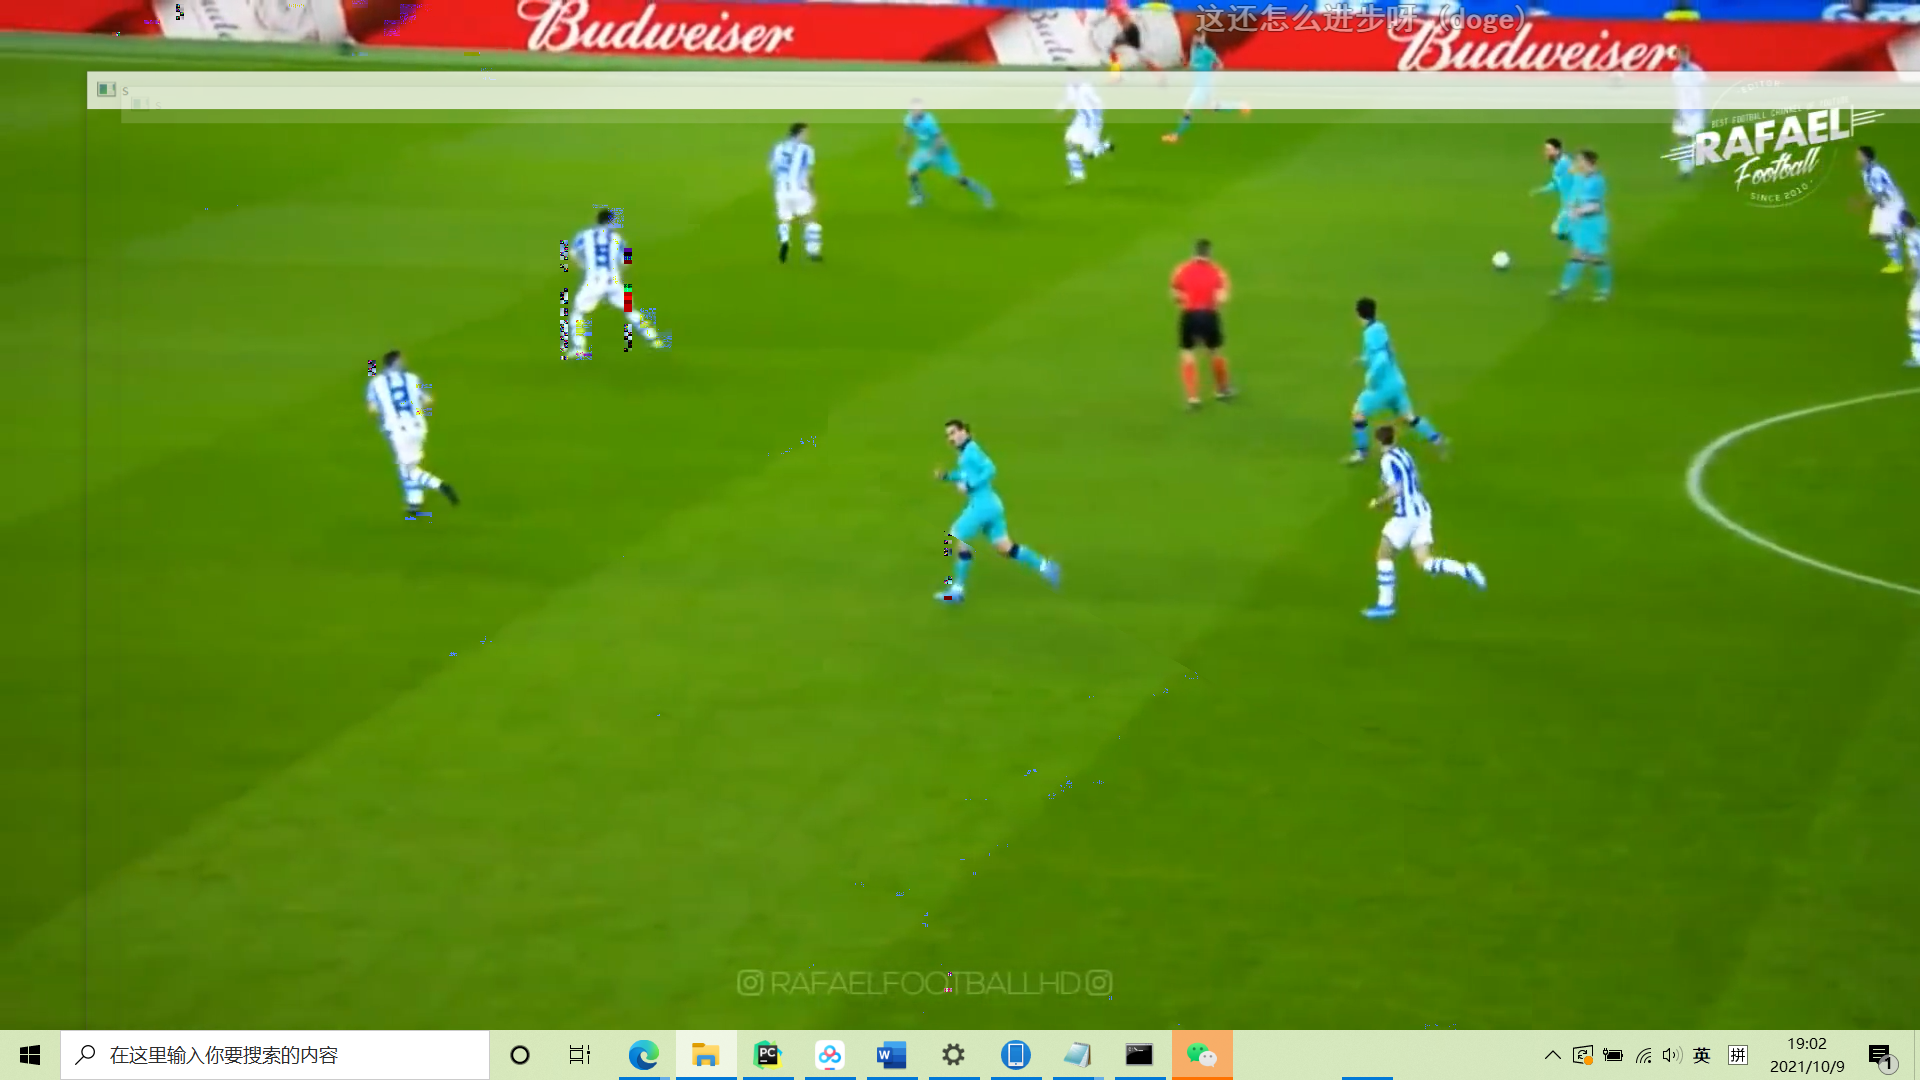ft: (1487, 249, 1514, 274)
